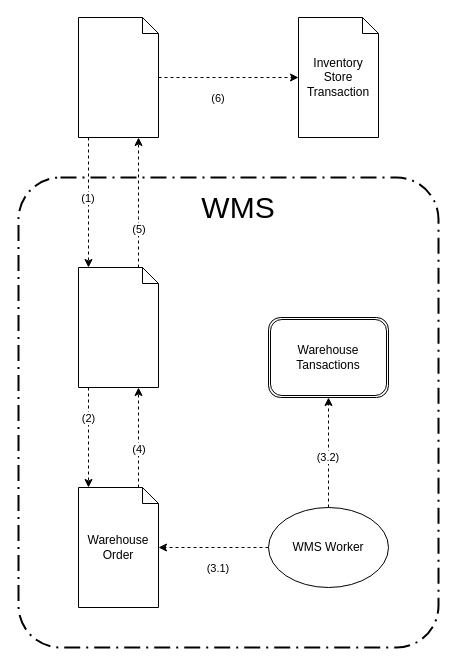
Image size: 456x666. Some labels were removed from this diagram. The shapes that lost their labels are listed below. From the top down, each one's centre as x and y in pixels, then its label:
At (118,77): "Inventory Store Order".
At (118,327): "Warehouse Requisition".
